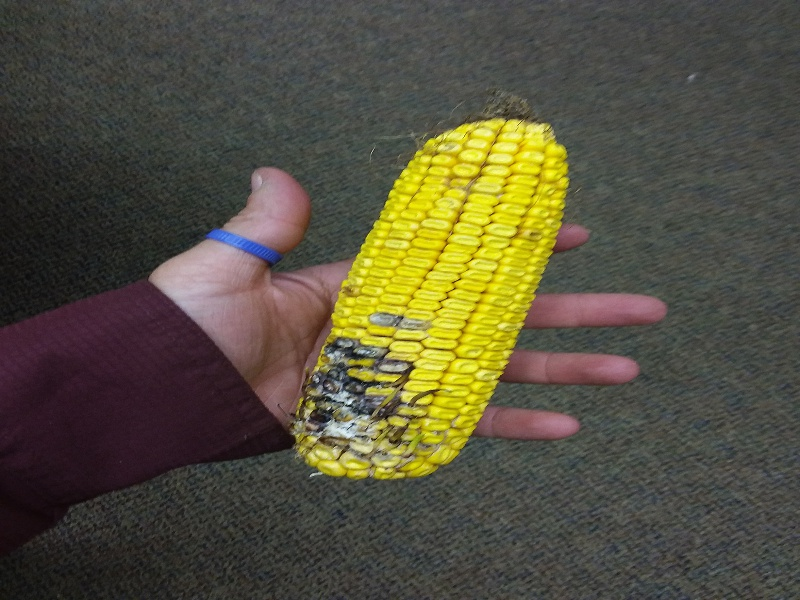band: (202, 226, 285, 265)
ear: (287, 83, 574, 484)
